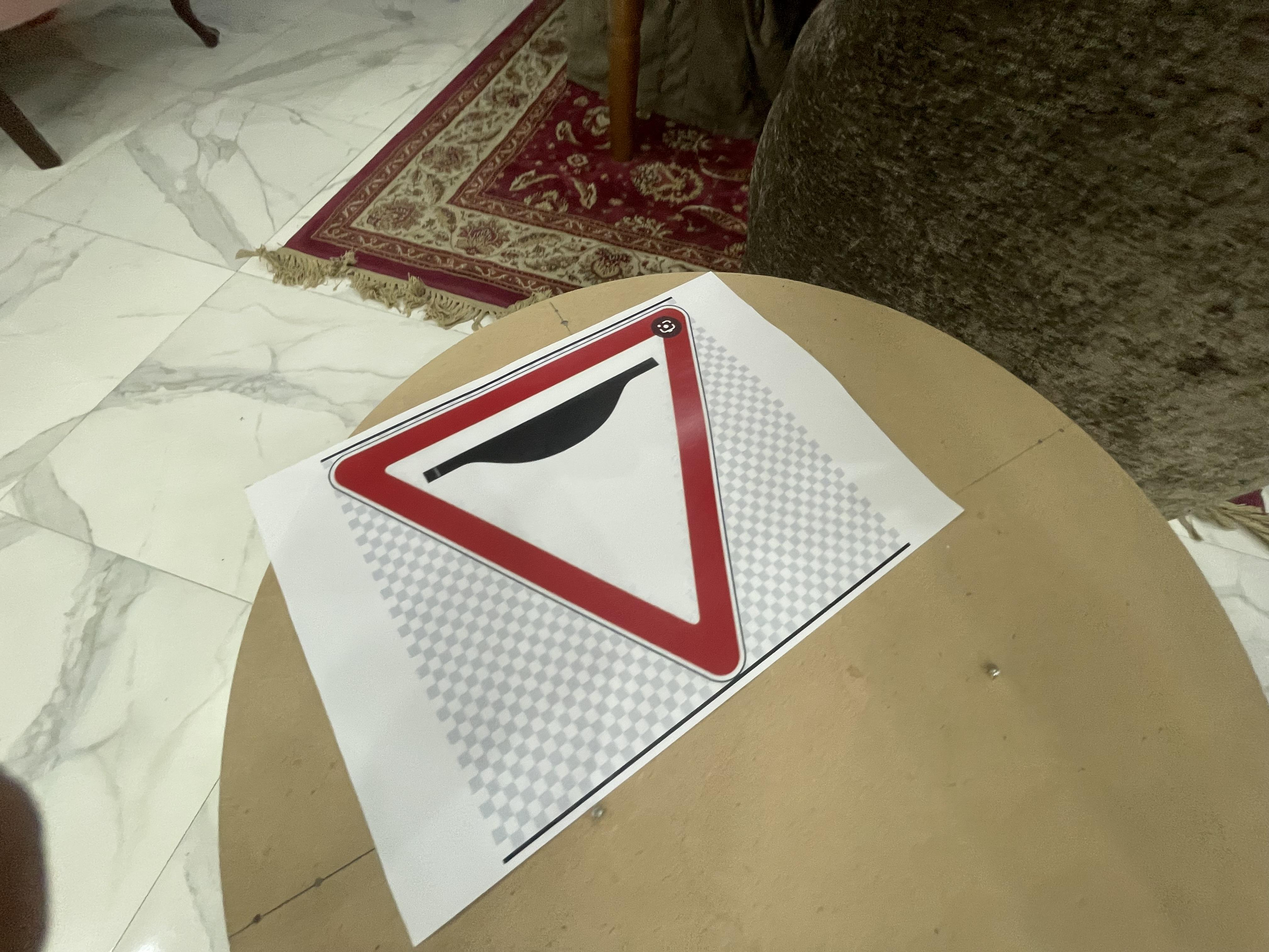Hump: (333, 303, 743, 684)
